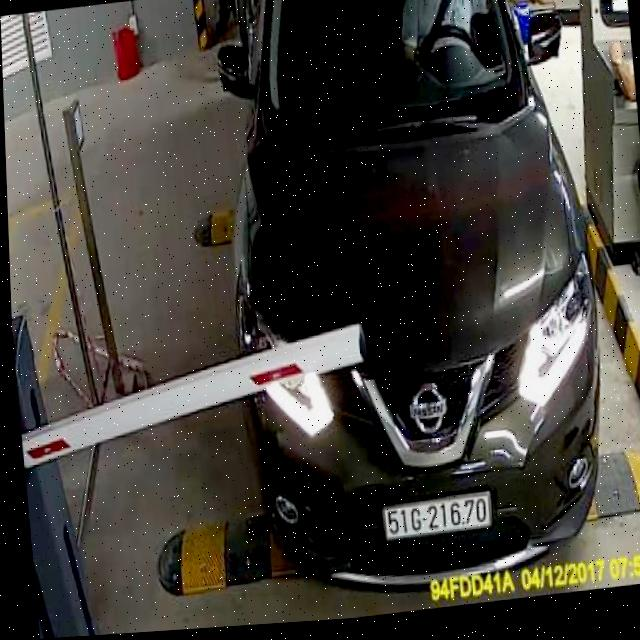car: (202, 0, 627, 601)
plate: (372, 485, 499, 548)
